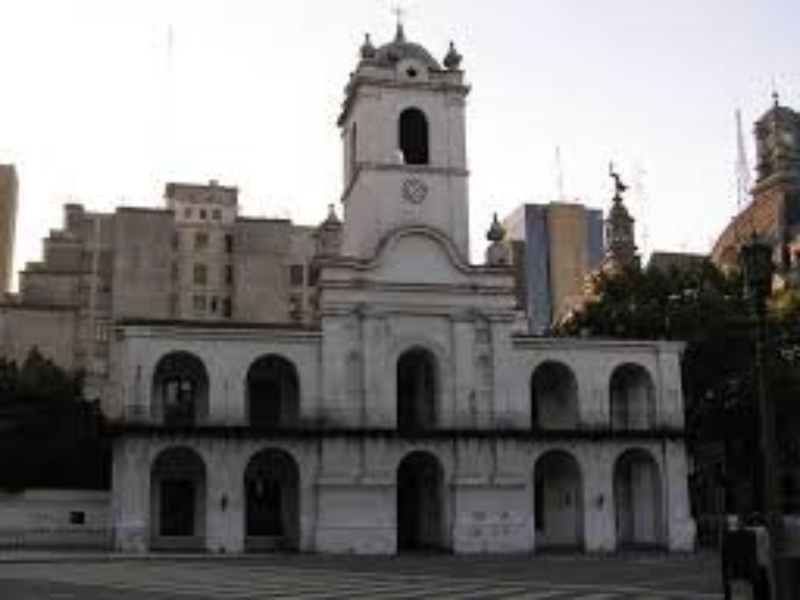cabildo: (102, 1, 699, 559)
